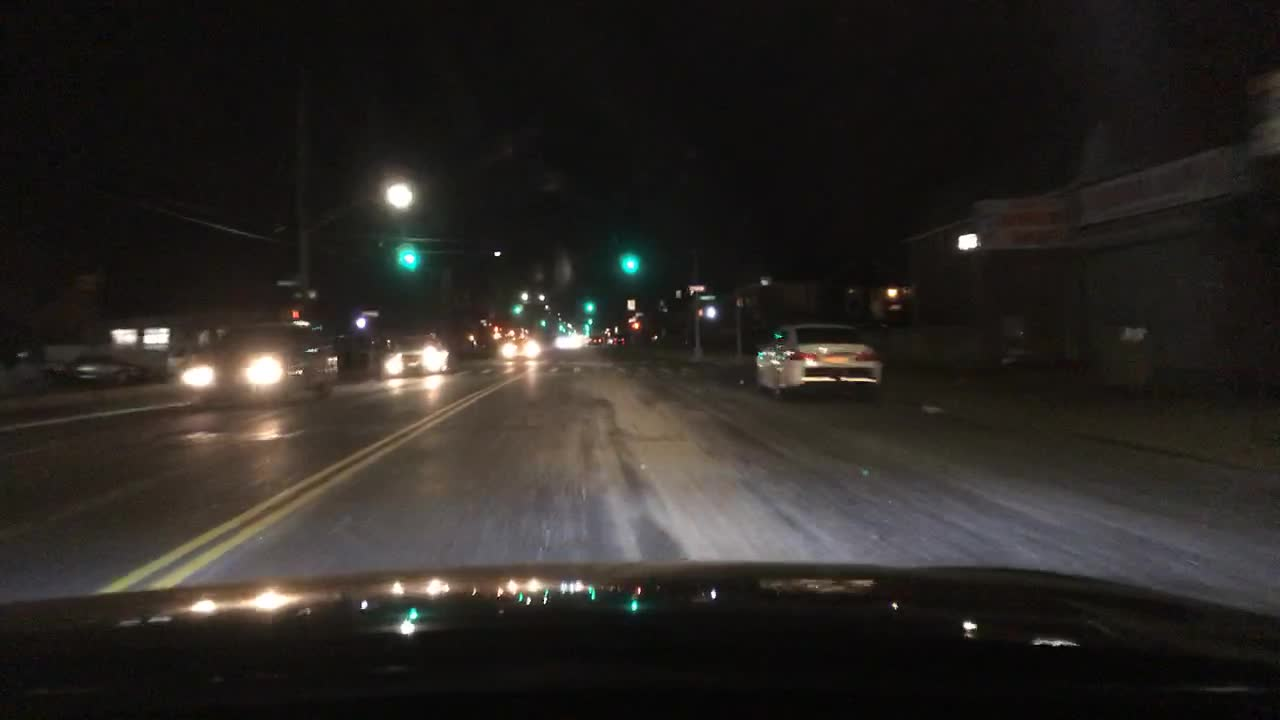car: (182, 323, 336, 405), (749, 320, 882, 396), (384, 333, 455, 378), (68, 351, 143, 386), (496, 334, 540, 363), (611, 331, 626, 345), (589, 335, 604, 346)
traffic light: (623, 248, 636, 272), (281, 306, 301, 321), (403, 243, 413, 267), (706, 305, 717, 319), (586, 296, 593, 315), (537, 315, 545, 328), (514, 298, 520, 313), (582, 321, 587, 331)
traffic sign: (687, 283, 706, 291), (694, 295, 719, 301), (275, 279, 295, 286), (626, 298, 636, 311), (360, 310, 379, 316)
